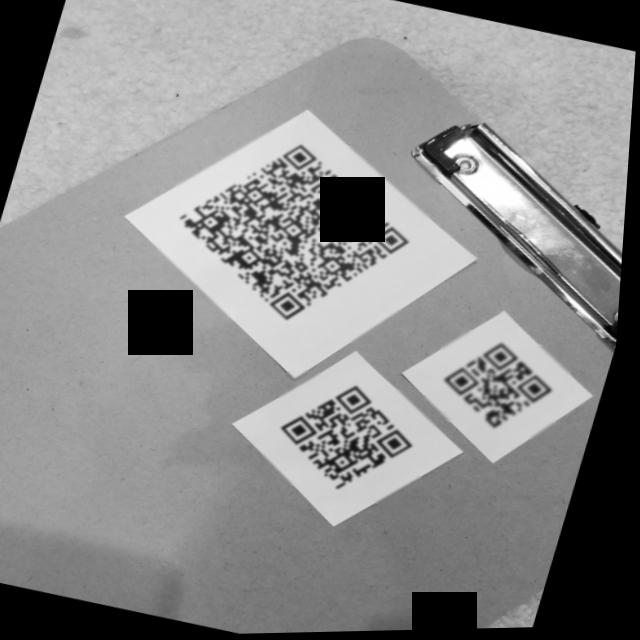QR_CODE: (143, 110, 449, 357), (260, 365, 451, 515), (425, 325, 583, 448)
